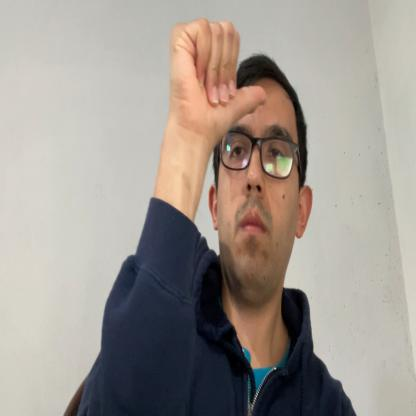A: (168, 16, 267, 144)
